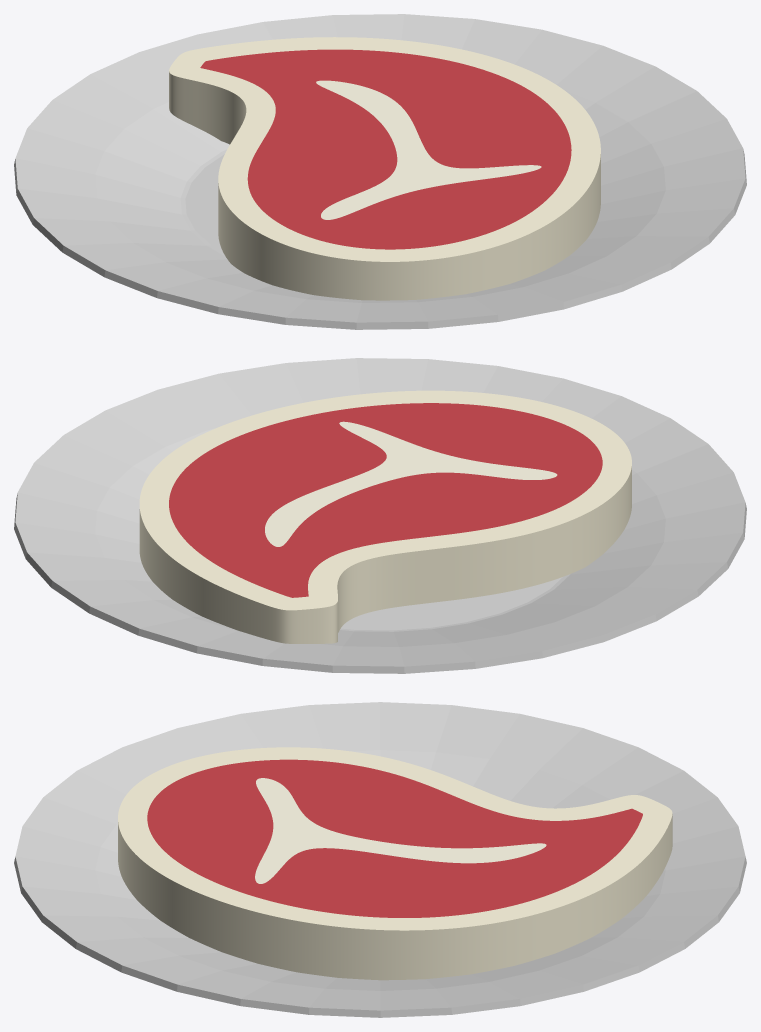
The model's file is raw_beef.fbx.
3 views of the same model, one above another, from view 1: azimuth 30°, elevation 25°; view 2: azimuth 150°, elevation 25°; view 3: azimuth 270°, elevation 25° (orthographic).
Visible parts, largest first — view 1: 원형.022, 소고기.001; view 2: 소고기.001, 원형.022; view 3: 소고기.001, 원형.022.
Boxes of the visible parts, x1,y1,x2,y2 form: 원형.022: (14, 14, 746, 329); 소고기.001: (169, 37, 600, 300); 소고기.001: (139, 390, 631, 643); 원형.022: (14, 358, 746, 673); 소고기.001: (118, 747, 672, 980); 원형.022: (14, 702, 746, 1017).
Size of the model in its own units: 293 by 33.27 by 293.
